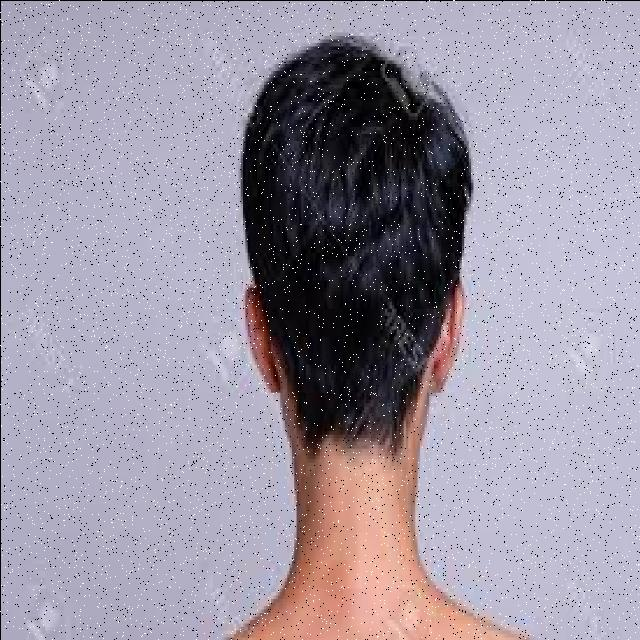Non_Helmet: (212, 24, 499, 488)
